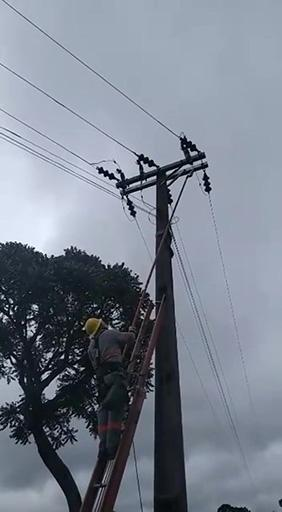Vara_Manobra: (120, 178, 188, 352)
